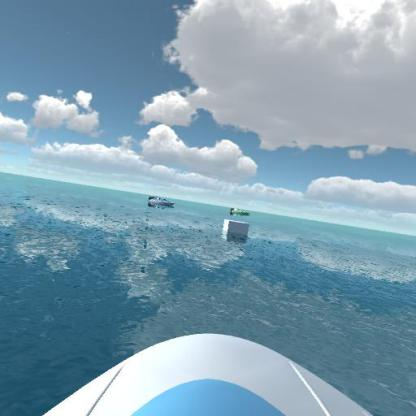usv0: (227, 201, 254, 219)
usv1: (144, 189, 179, 211)
